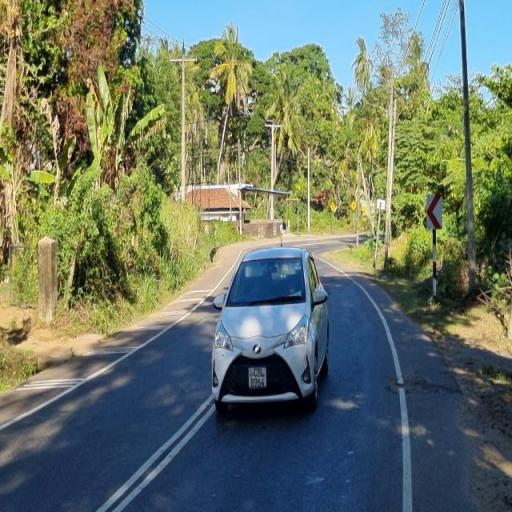double_white_line: (92, 390, 214, 512)
